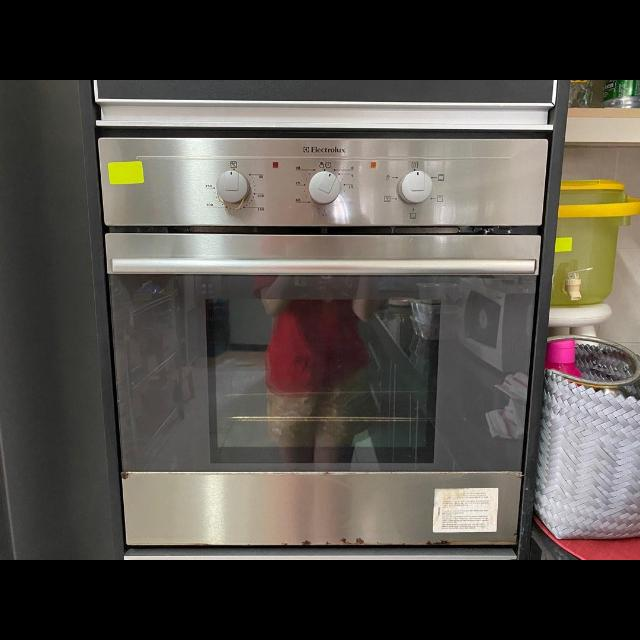Oven: (98, 134, 546, 544)
